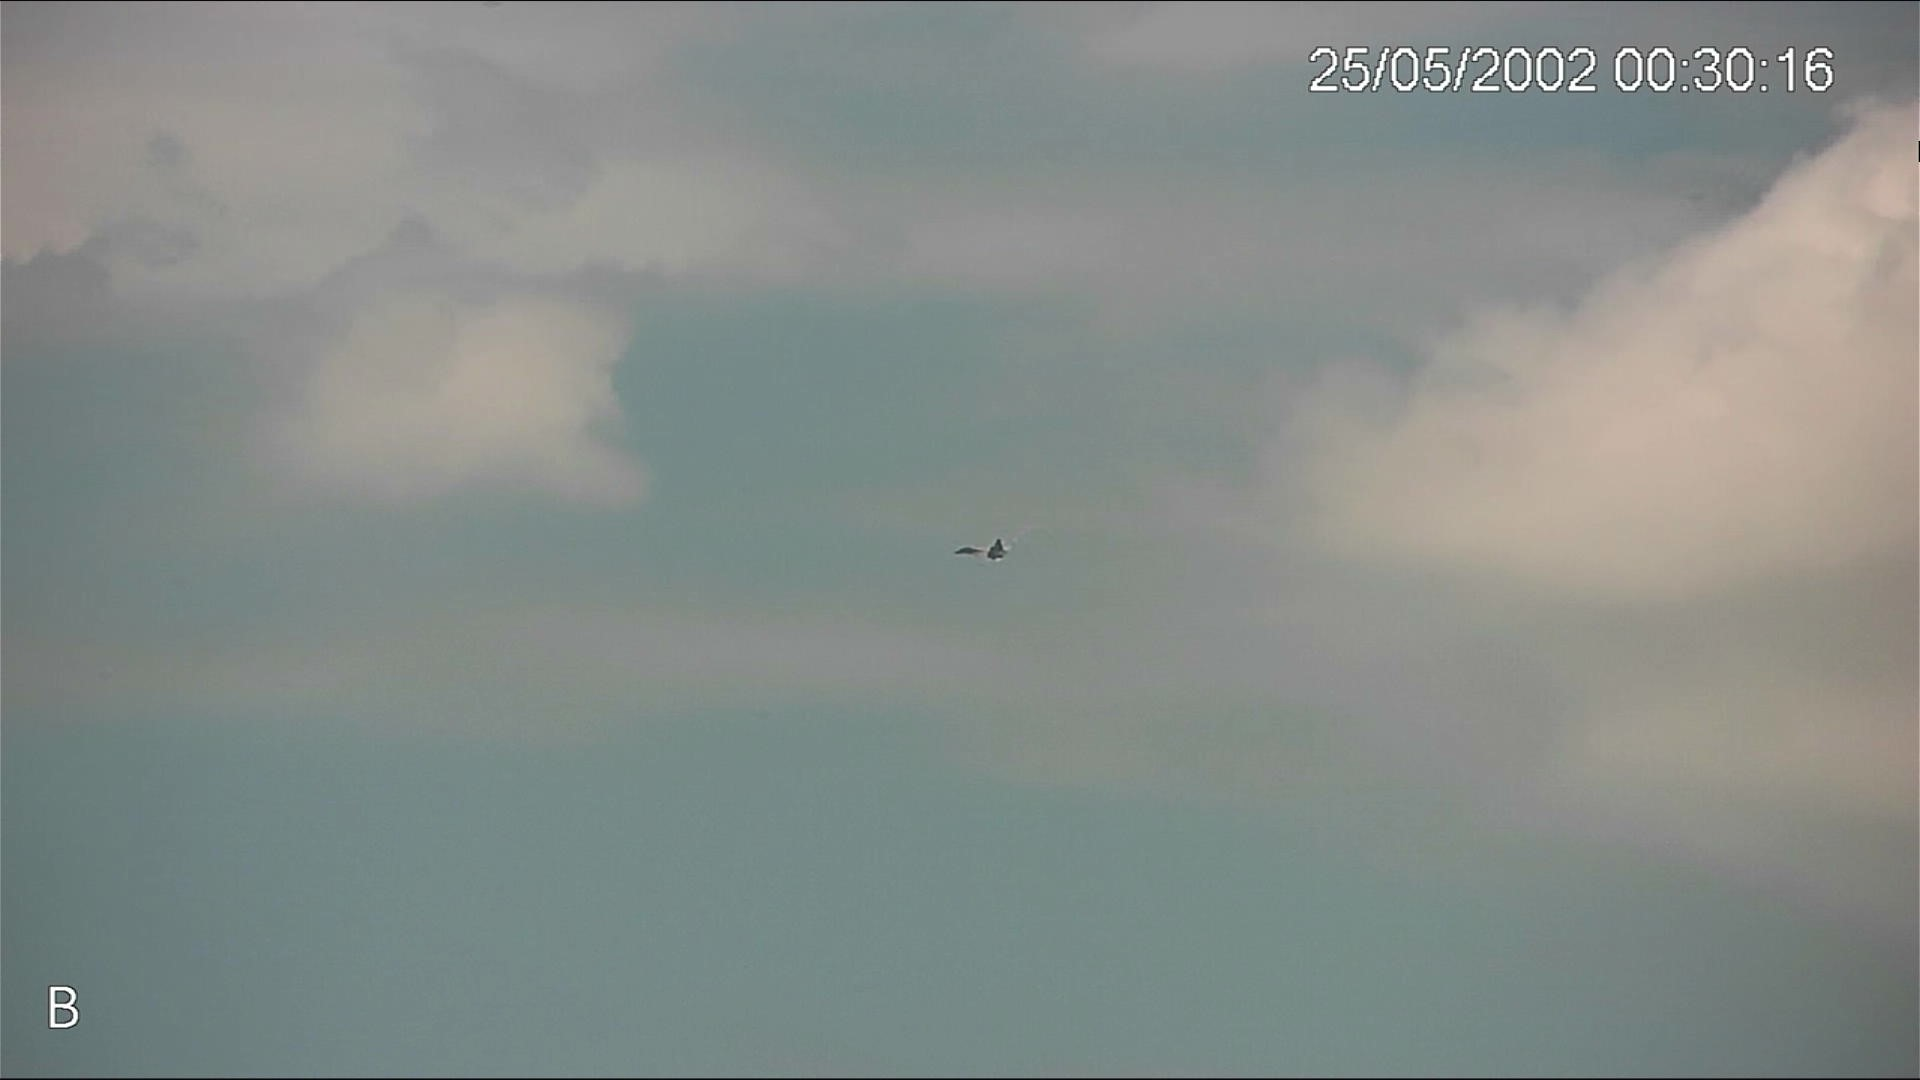SU_30: (953, 537, 1011, 564)
